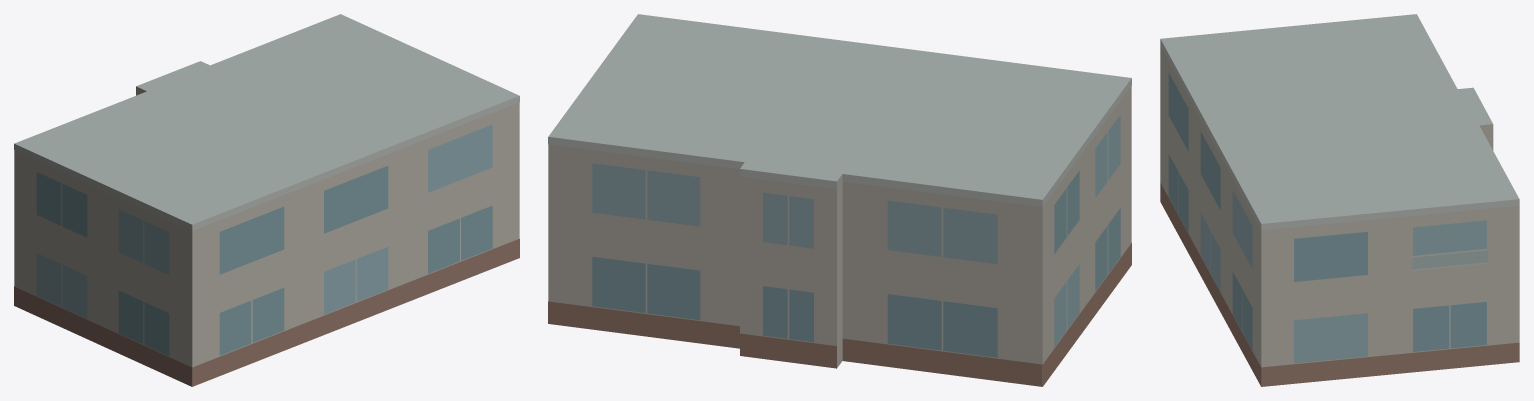
Rendered from survey-upis-32698342.glb.
3 views of the same model, side by side, from view 1: azimuth 30°, elevation 25°; view 2: azimuth 150°, elevation 25°; view 3: azimuth 270°, elevation 25° (orthographic). The views are drawn at different scales.
Parts seen in each view (by area): view 1: survey-upis-32698342.tmp; view 2: survey-upis-32698342.tmp; view 3: survey-upis-32698342.tmp.
Boxes of the visible parts, box(x1,y1,x2,y2) form: survey-upis-32698342.tmp: box(14, 14, 519, 386); survey-upis-32698342.tmp: box(548, 14, 1131, 386); survey-upis-32698342.tmp: box(1160, 14, 1519, 386).
Bounding box in the file's own units: 16.87 × 6.1 × 12.2.
